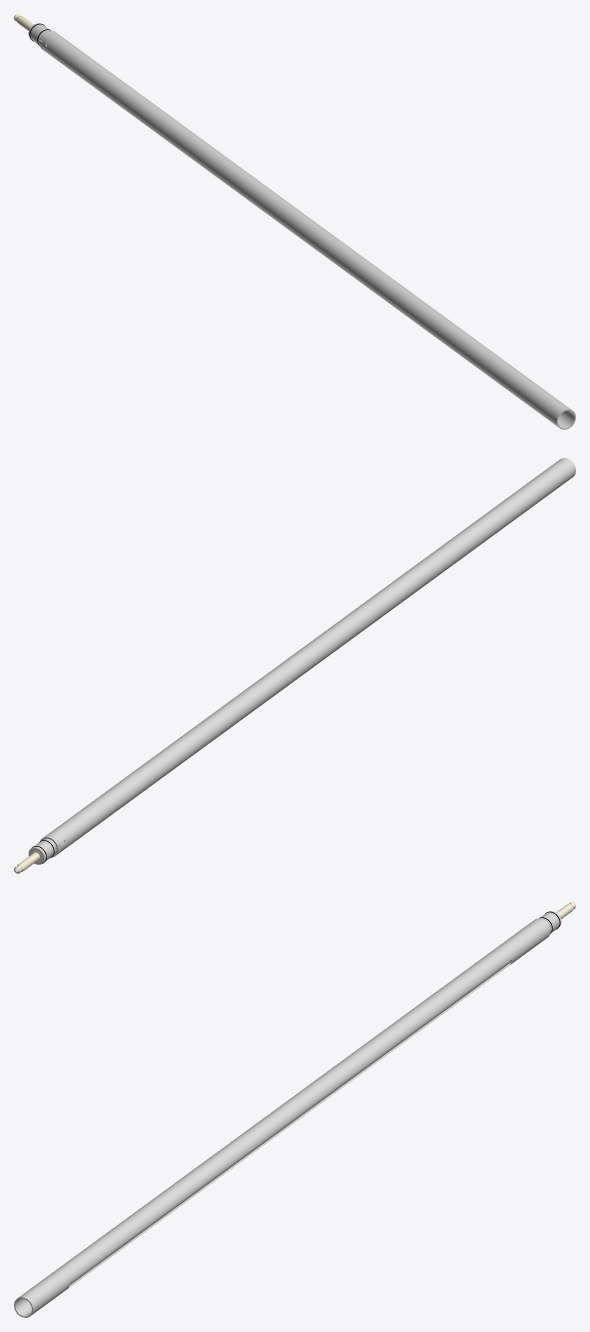
File: LightTube750.glb
The picture shows the model from 3 angles, top to bottom: view 1: azimuth 30°, elevation 25°; view 2: azimuth 150°, elevation 25°; view 3: azimuth 330°, elevation 25°; orthographic projection.
Parts seen in each view (by area): view 1: Body2.063; view 2: Body2.063; view 3: Body2.063.
Boxes of the visible parts, box(x1,y1,x2,y2) form: Body2.063: box(14, 14, 575, 429); Body2.063: box(14, 458, 575, 873); Body2.063: box(14, 902, 575, 1317).
Size of the model in its own units: 0.1602 by 0.1602 by 7.98.
